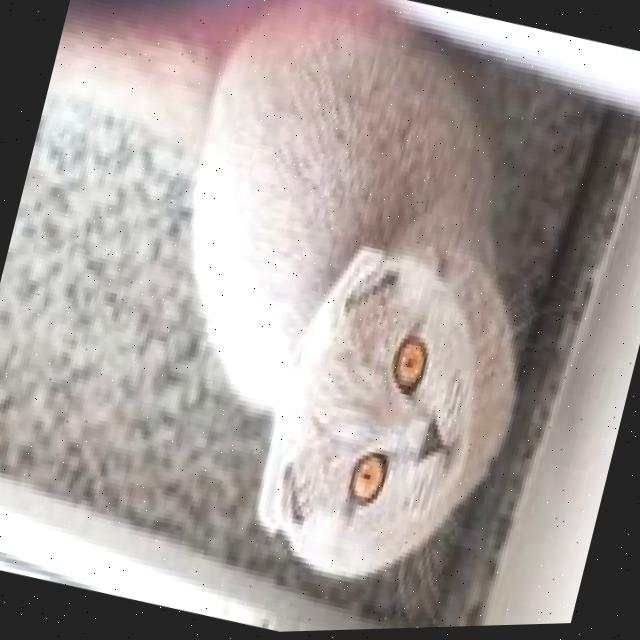Scottish Fold: (0, 0, 608, 623)
